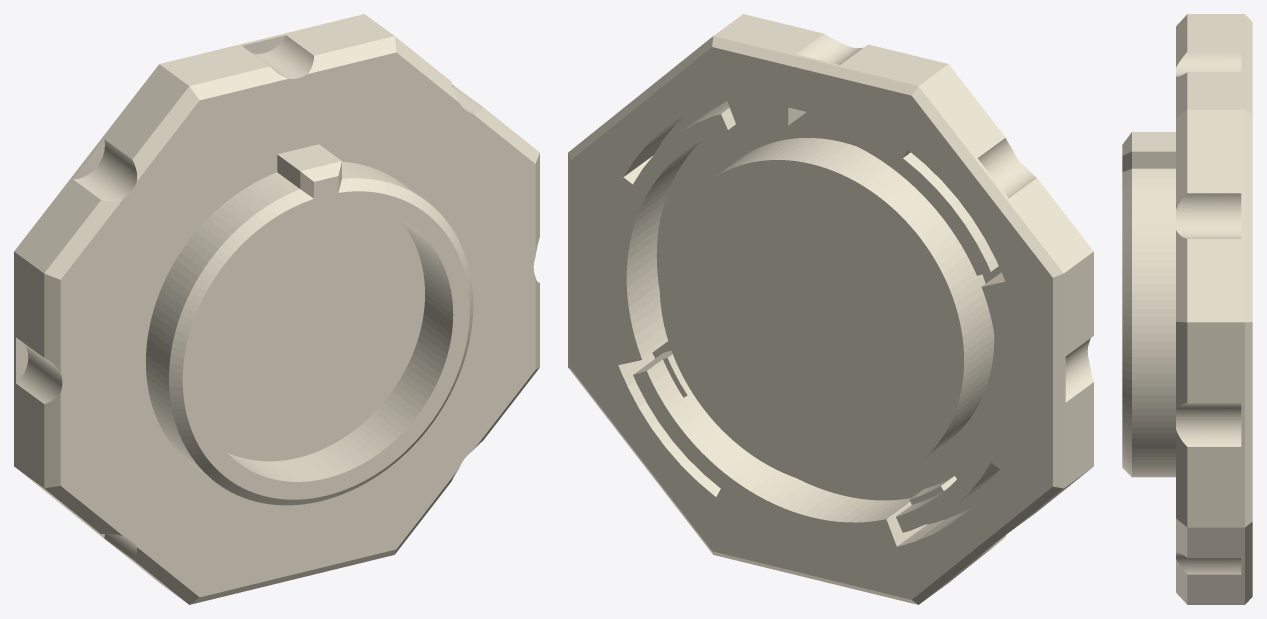
The model's file is t2@ivory.glb.
The picture shows the model from 3 angles, left to right: view 1: azimuth 30°, elevation 25°; view 2: azimuth 150°, elevation 25°; view 3: azimuth 270°, elevation 25°; orthographic projection. The views are drawn at different scales.
Visible parts, largest first — view 1: geometry_0; view 2: geometry_0; view 3: geometry_0.
Part boxes in pixels (bbox=[...]): geometry_0: bbox=[14, 14, 539, 604]; geometry_0: bbox=[568, 14, 1093, 604]; geometry_0: bbox=[1122, 14, 1252, 604].
Size of the model in its own units: 28.5 by 28.5 by 6.8.
